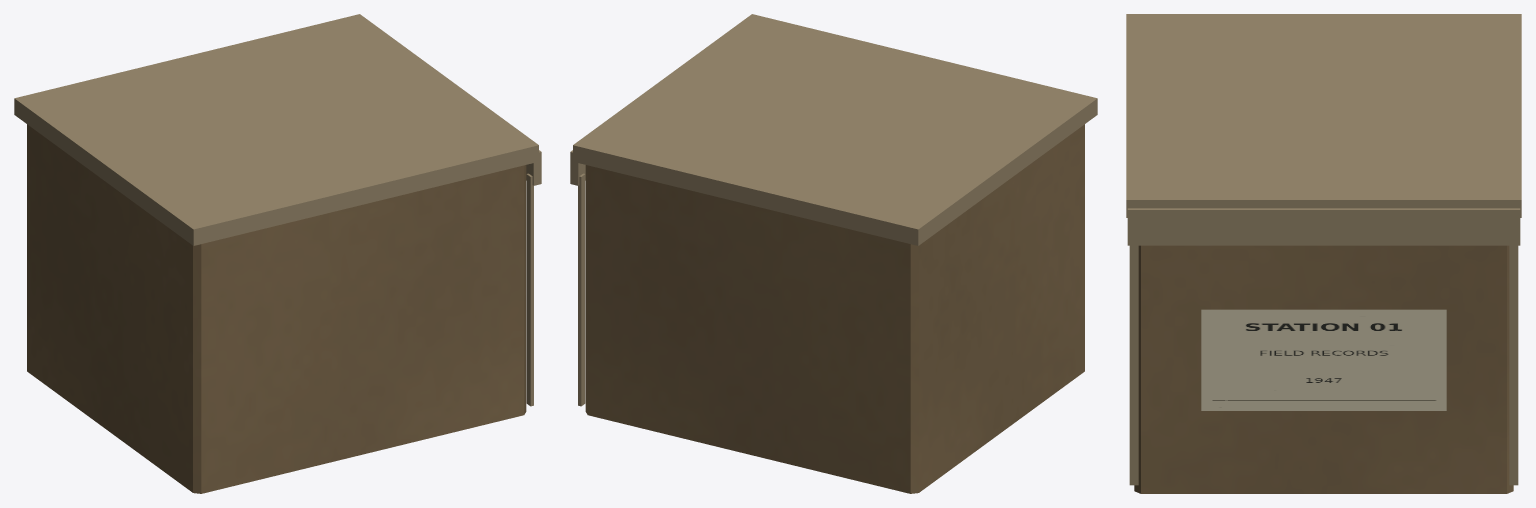
The model's file is SM_ArchiveProps_FieldBox_LOD2.glb.
3 views of the same model, side by side, from view 1: azimuth 30°, elevation 25°; view 2: azimuth 150°, elevation 25°; view 3: azimuth 270°, elevation 25° (orthographic). The views are drawn at different scales.
Parts seen in each view (by area): view 1: SM_ArchiveProps_FieldBox_LOD2; view 2: SM_ArchiveProps_FieldBox_LOD2; view 3: SM_ArchiveProps_FieldBox_LOD2.
Boxes of the visible parts, x1=… form: SM_ArchiveProps_FieldBox_LOD2: x1=14, y1=14, x2=541, y2=493; SM_ArchiveProps_FieldBox_LOD2: x1=570, y1=14, x2=1097, y2=493; SM_ArchiveProps_FieldBox_LOD2: x1=1126, y1=14, x2=1521, y2=493.
Bounding box in the file's own units: 0.398 × 0.294 × 0.354.
3 materials, 2 textured.
